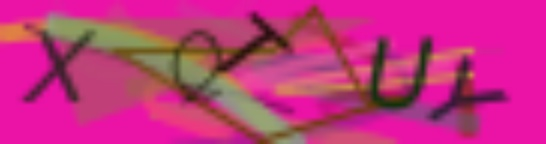Q: (171, 28, 224, 107)
T: (215, 10, 301, 74)
U: (367, 33, 436, 111)
X: (20, 28, 100, 108)
Y: (429, 53, 510, 124)
